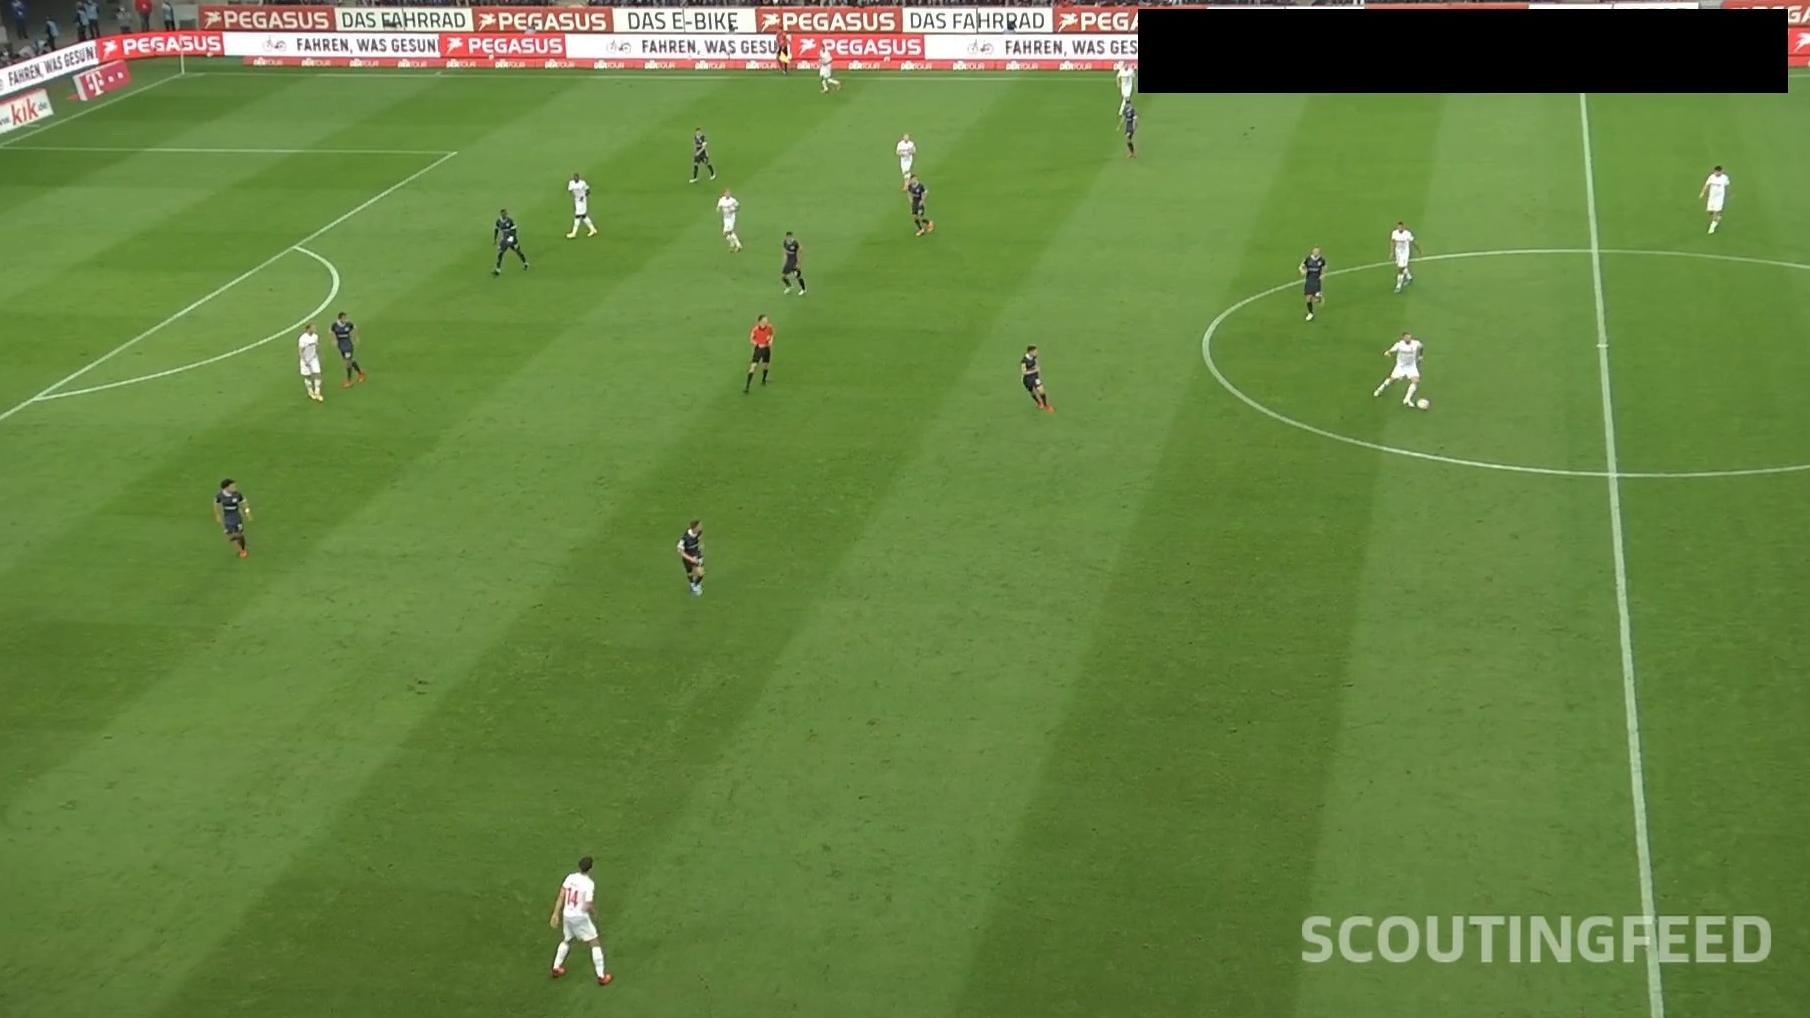ball: (1416, 397, 1431, 411)
